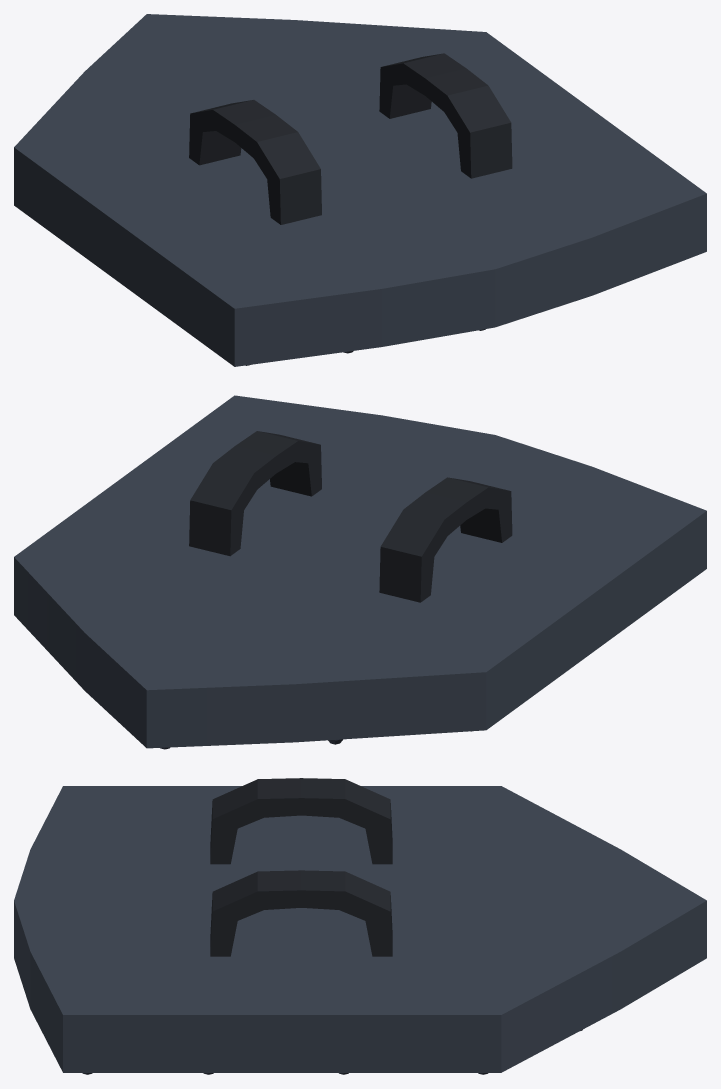
The model's file is quadanium-heavy-shield.glb.
3 views of the same model, one above another, from view 1: azimuth 30°, elevation 25°; view 2: azimuth 150°, elevation 25°; view 3: azimuth 270°, elevation 25° (orthographic).
Parts seen in each view (by area): view 1: m; view 2: m; view 3: m.
Part boxes in pixels (x1,y1,x2,y2): m: [14, 14, 706, 366]; m: [14, 395, 706, 749]; m: [14, 778, 706, 1074].
Size of the model in its own units: 0.58 by 0.1732 by 0.7416.
